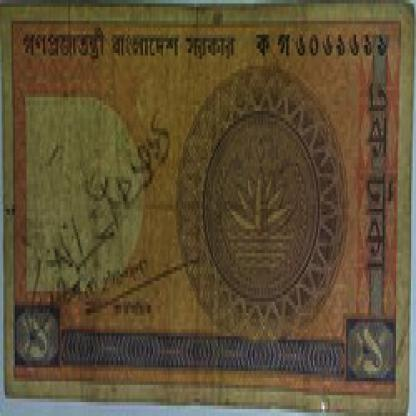One Taka: (363, 76, 399, 278), (346, 319, 394, 381), (15, 305, 62, 368)
